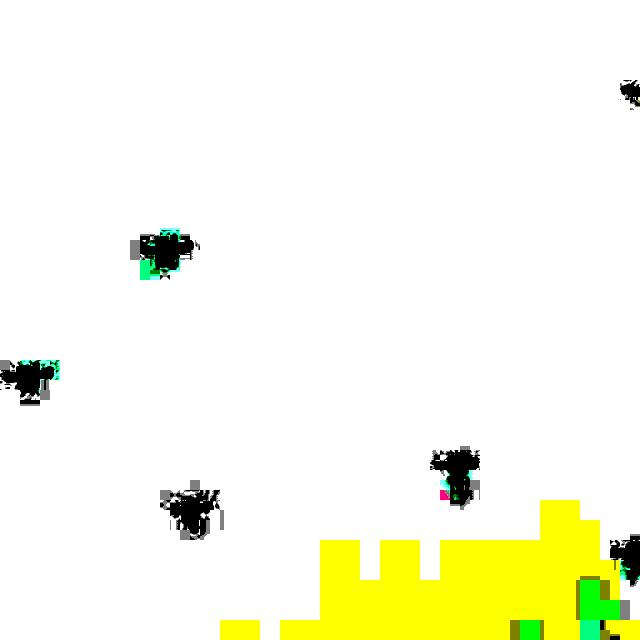bird: (139, 225, 196, 274), (0, 352, 55, 396), (434, 450, 484, 490), (166, 494, 215, 534), (609, 538, 640, 578)
